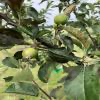Apple Scab Leaf: (62, 63, 99, 99), (58, 22, 93, 52), (6, 65, 38, 86), (0, 27, 26, 46), (62, 3, 78, 17)
